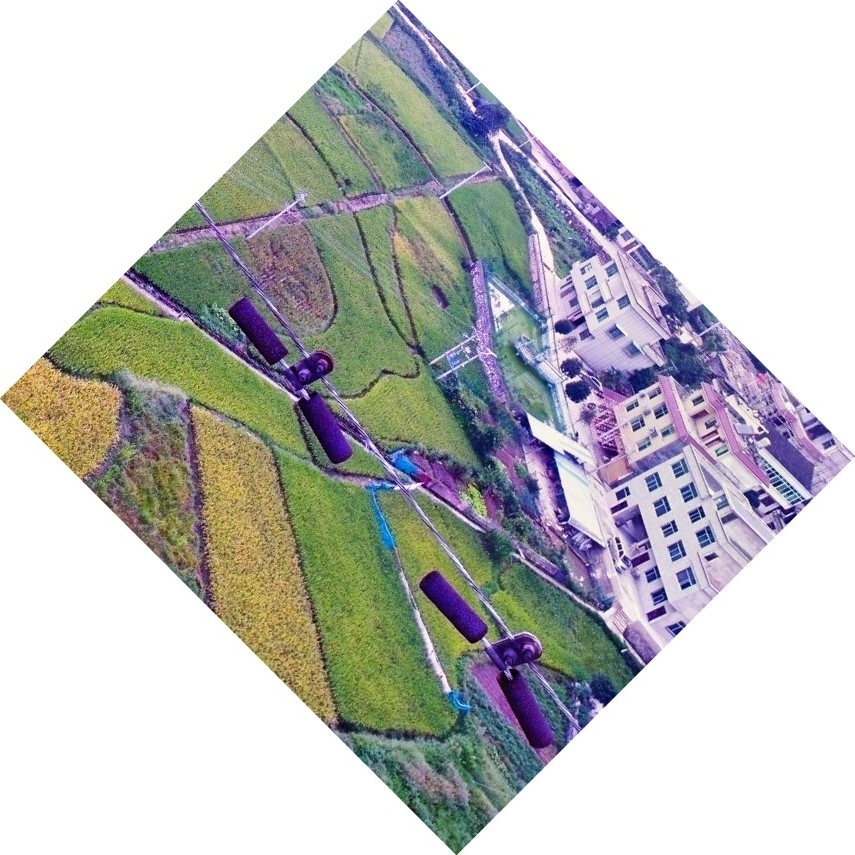Shockproof hammer: (410, 560, 562, 758), (226, 283, 361, 471)
